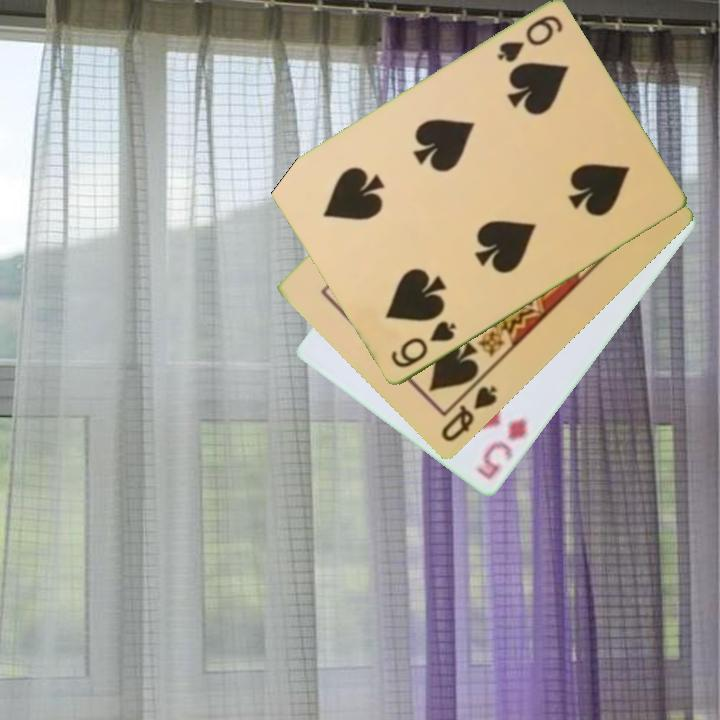5d: (471, 415, 531, 483)
6s: (387, 317, 459, 372), (493, 12, 566, 66)
Qs: (437, 382, 500, 446)
